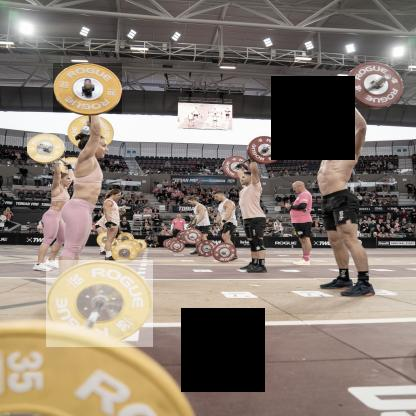barbell: (47, 261, 154, 348), (54, 64, 123, 116), (349, 62, 405, 109), (29, 135, 67, 165), (249, 136, 284, 165), (213, 243, 238, 264)
